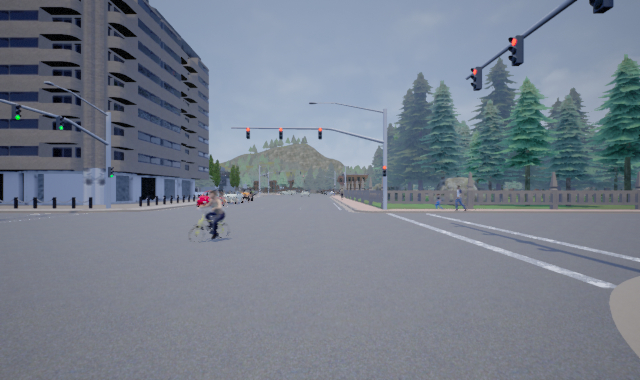bike: (189, 189, 232, 241)
pedestrian: (452, 183, 466, 210), (432, 191, 443, 209)
traffic_light: (507, 35, 524, 68), (469, 66, 482, 91), (11, 103, 22, 122), (56, 114, 64, 131), (107, 166, 115, 178), (244, 126, 251, 139), (382, 164, 387, 177), (278, 127, 283, 140), (318, 127, 322, 140)
vehicle: (196, 190, 226, 208), (219, 189, 243, 204), (234, 187, 254, 202)
